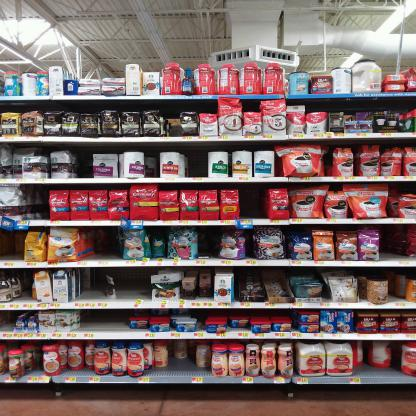Void: (375, 226, 405, 259), (237, 187, 266, 221), (81, 268, 103, 298), (121, 271, 145, 297), (79, 312, 123, 326), (355, 364, 401, 377), (3, 233, 24, 259), (156, 365, 203, 376), (202, 230, 219, 258), (188, 145, 203, 176), (147, 142, 158, 178), (79, 147, 91, 179), (22, 271, 33, 299), (1, 314, 13, 330)
